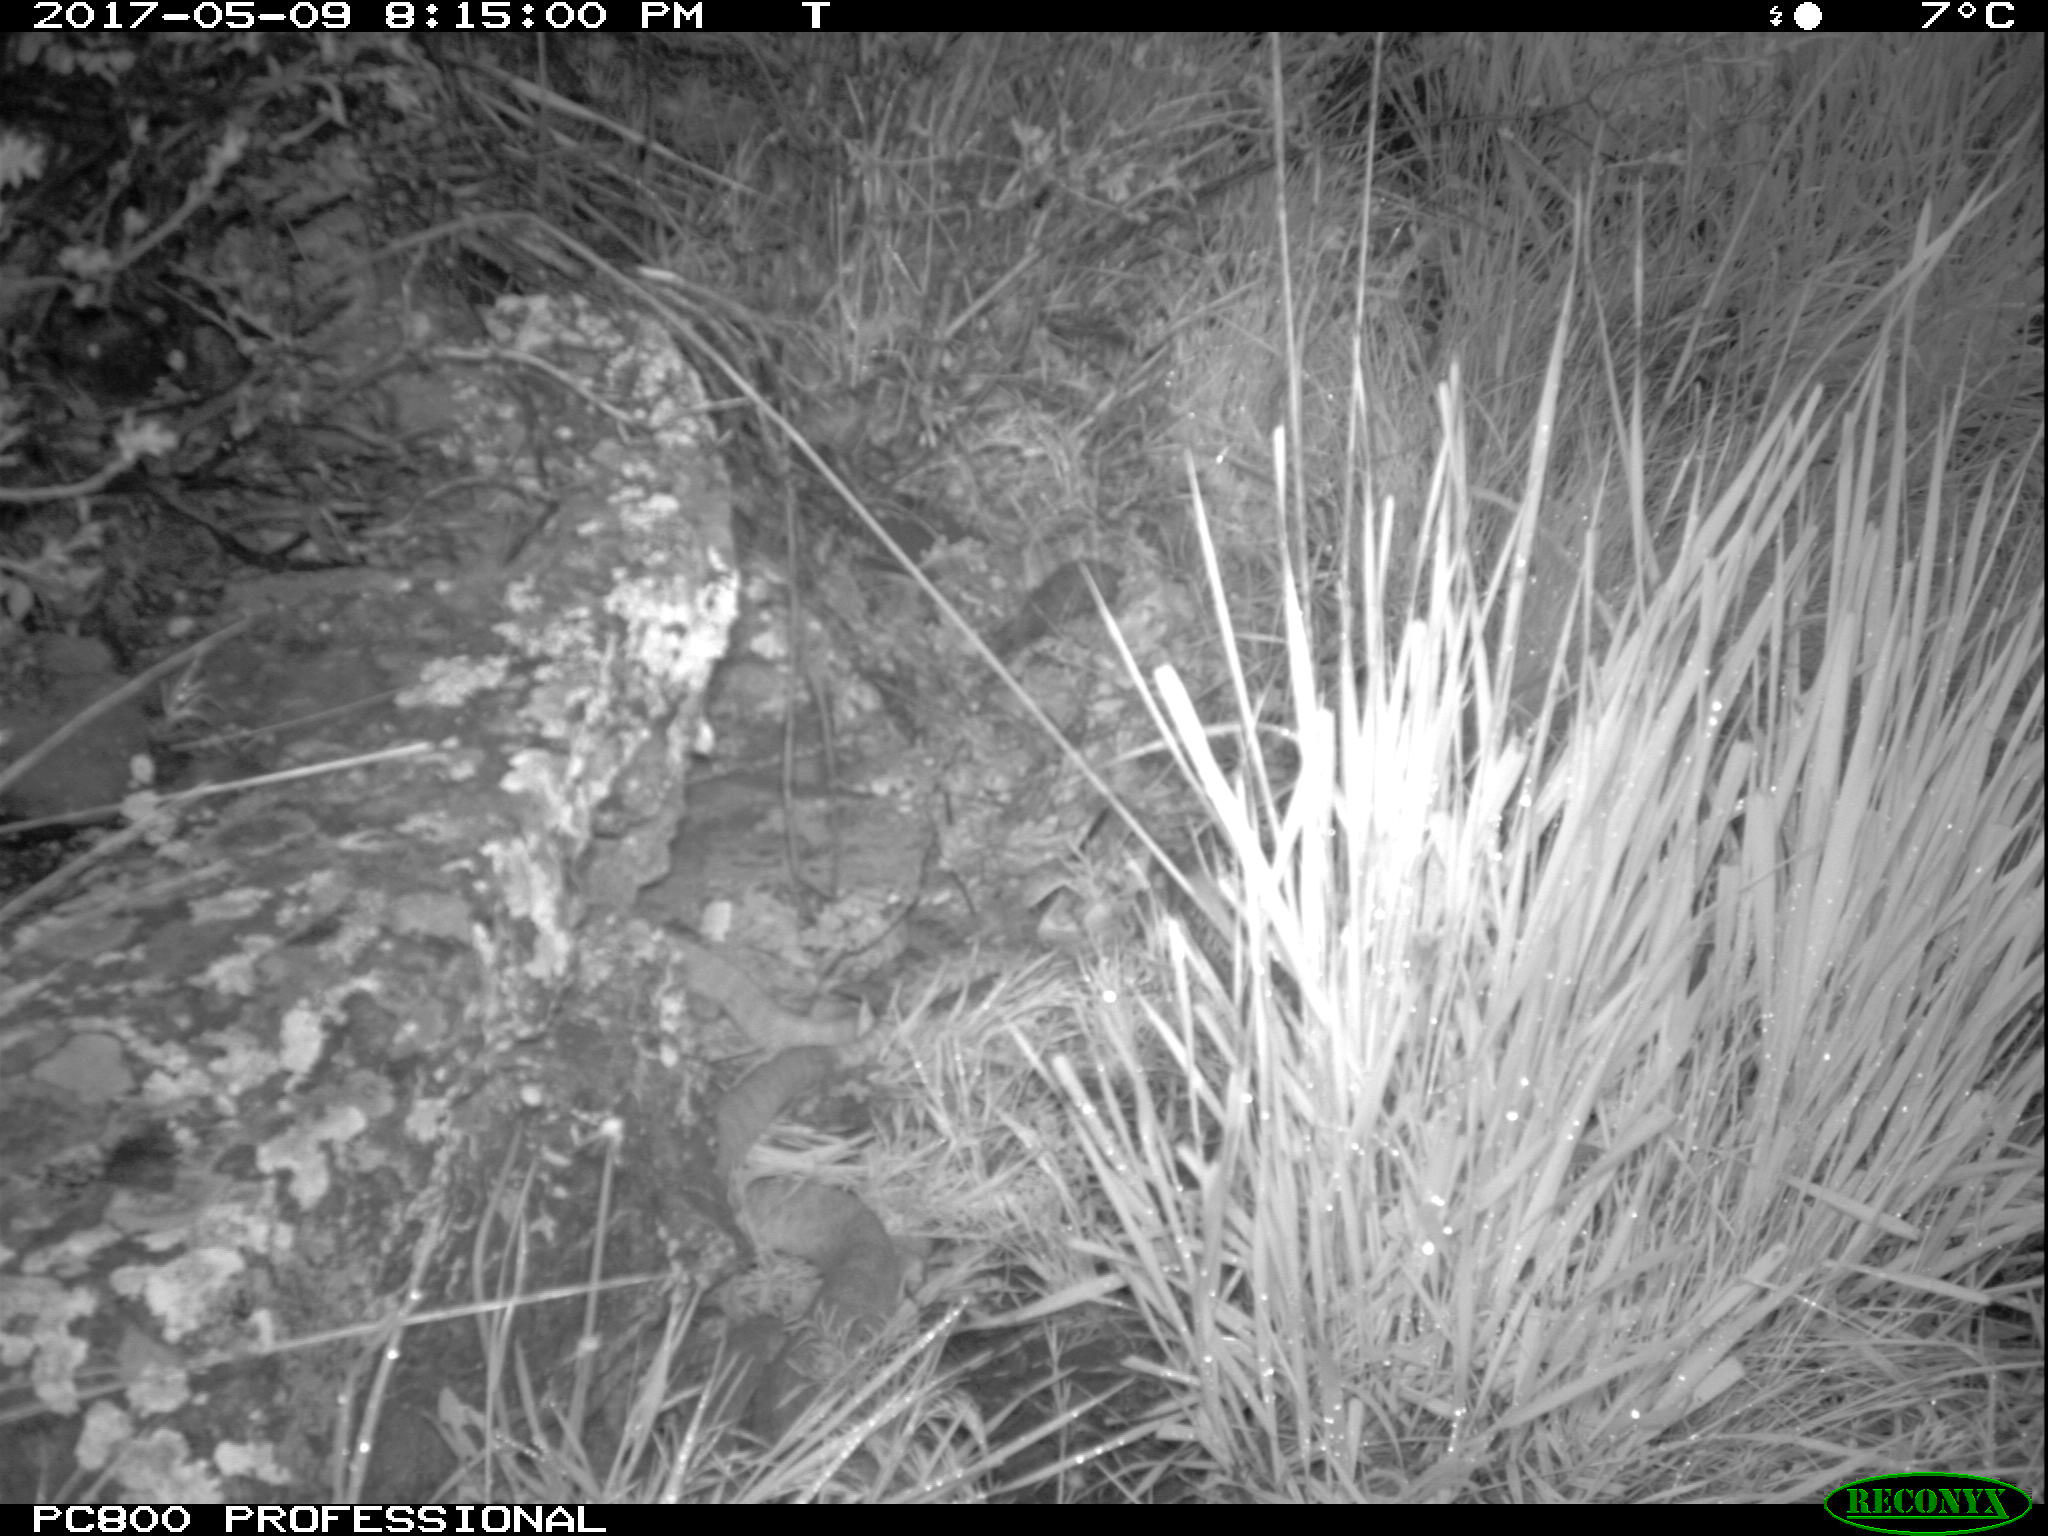snake: (666, 936, 860, 1158), (747, 1167, 910, 1379)
